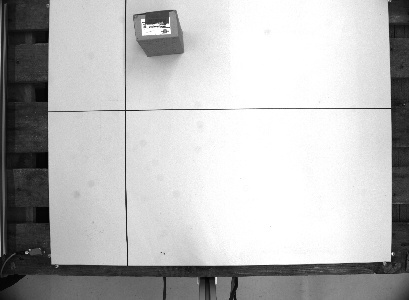b6: (130, 5, 185, 59)
